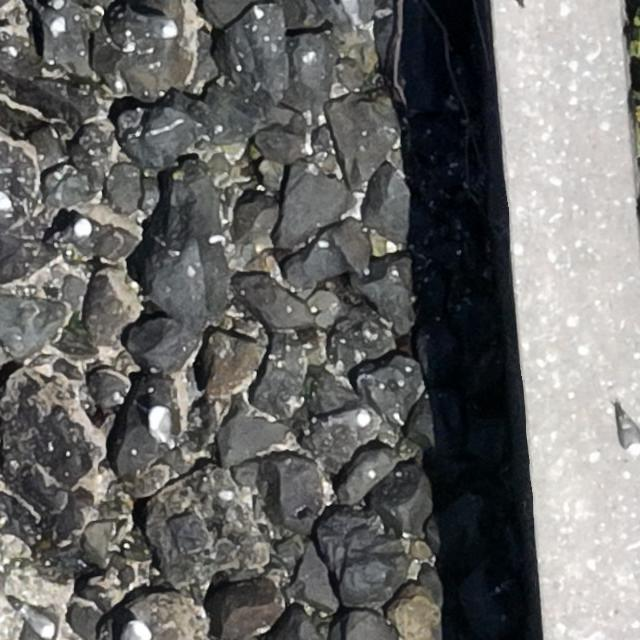umineko: (617, 411, 640, 457), (28, 611, 56, 637), (146, 16, 178, 38), (152, 410, 173, 442), (62, 221, 90, 242), (337, 411, 369, 428), (122, 621, 148, 640)
